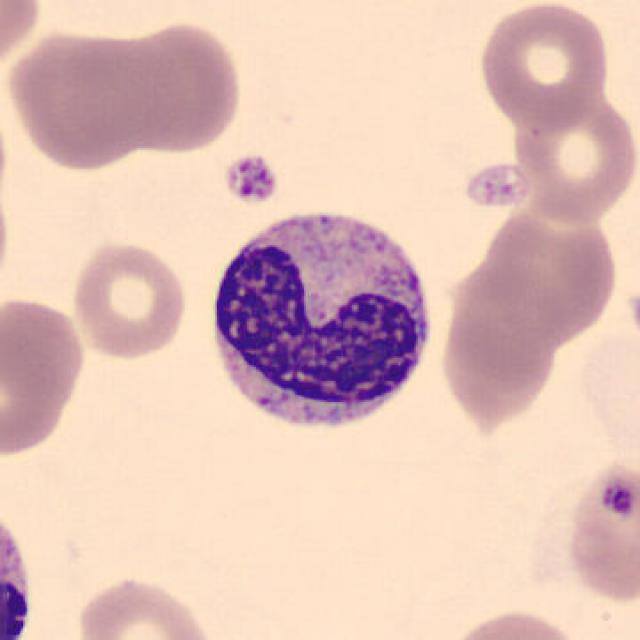Neutrophil: (210, 208, 432, 432), (0, 501, 41, 640)
Platelets: (462, 160, 534, 210), (220, 152, 281, 208), (596, 469, 636, 525)
RBC: (467, 203, 620, 344), (2, 26, 148, 173), (436, 260, 560, 424), (116, 18, 247, 157), (474, 0, 613, 130), (508, 88, 638, 226), (68, 236, 190, 362), (0, 292, 89, 463), (553, 455, 640, 608), (73, 573, 219, 640), (439, 604, 590, 640), (0, 0, 48, 85), (0, 171, 14, 312)
